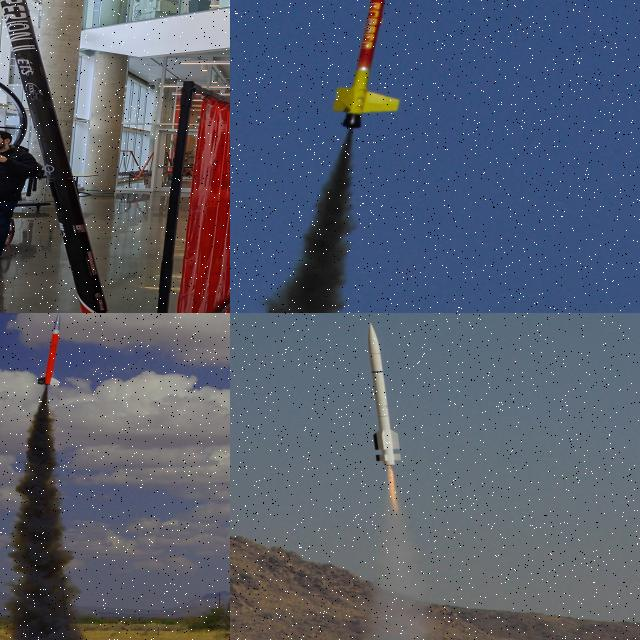Rocket: (328, 0, 409, 132), (367, 322, 403, 469), (38, 313, 61, 386)
